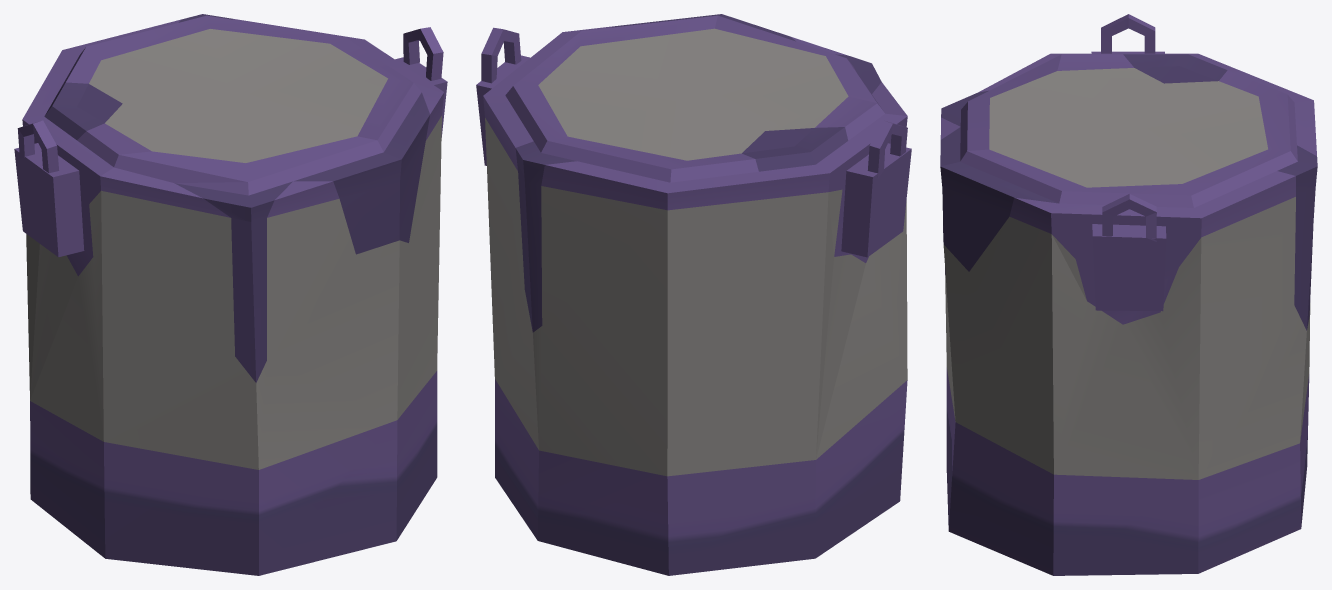
File: SM_Prop_Paint_Can_Closed_Alt_02.obj
The picture shows the model from 3 angles, left to right: view 1: azimuth 30°, elevation 25°; view 2: azimuth 150°, elevation 25°; view 3: azimuth 270°, elevation 25°; orthographic projection. The views are drawn at different scales.
Parts seen in each view (by area): view 1: SM_Prop_Paint_Can_Closed_Alt_02_0; view 2: SM_Prop_Paint_Can_Closed_Alt_02_0; view 3: SM_Prop_Paint_Can_Closed_Alt_02_0.
Boxes of the visible parts, bbox=[...] form: SM_Prop_Paint_Can_Closed_Alt_02_0: bbox=[14, 14, 447, 575]; SM_Prop_Paint_Can_Closed_Alt_02_0: bbox=[476, 14, 911, 575]; SM_Prop_Paint_Can_Closed_Alt_02_0: bbox=[940, 14, 1317, 575].
Size of the model in its own units: 0.3622 by 0.3596 by 0.3123.
Materials: 1 (1 with a texture image).
